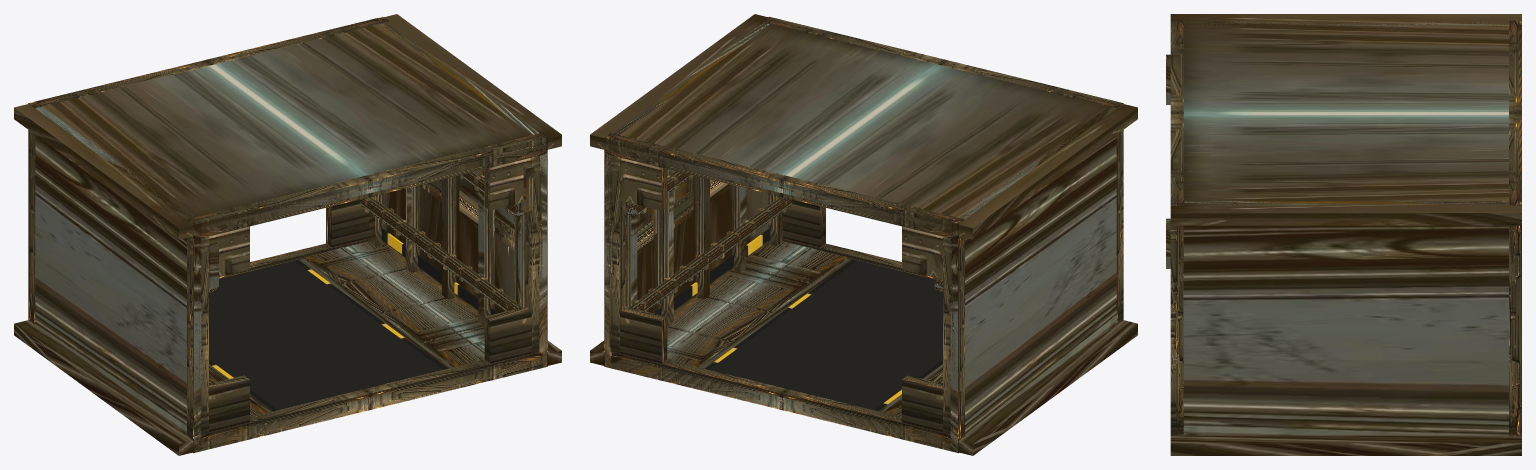
Rendered from hangar_koridor_lonca.glb.
3 views of the same model, side by side, from view 1: azimuth 30°, elevation 25°; view 2: azimuth 150°, elevation 25°; view 3: azimuth 270°, elevation 25° (orthographic). The views are drawn at different scales.
Parts seen in each view (by area): view 1: LOD0_koridor; view 2: LOD0_koridor; view 3: LOD0_koridor.
Boxes of the visible parts, left/top/right/bottom form: LOD0_koridor: left=14, top=14, right=561, bottom=455; LOD0_koridor: left=590, top=14, right=1137, bottom=455; LOD0_koridor: left=1166, top=14, right=1521, bottom=455.
Bounding box in the file's own units: 10.2 × 5.84 × 7.7.
1 material, 1 textured.
